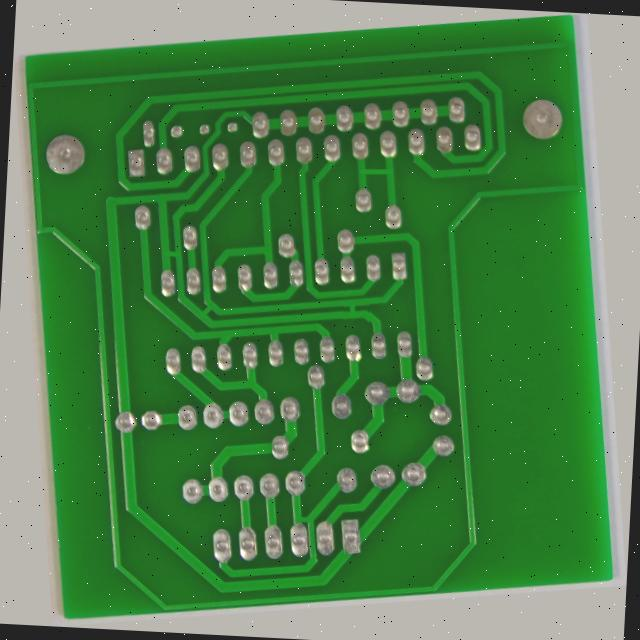short: (375, 151, 429, 180), (179, 281, 209, 306), (343, 302, 371, 327), (259, 531, 290, 551), (149, 219, 179, 235)
